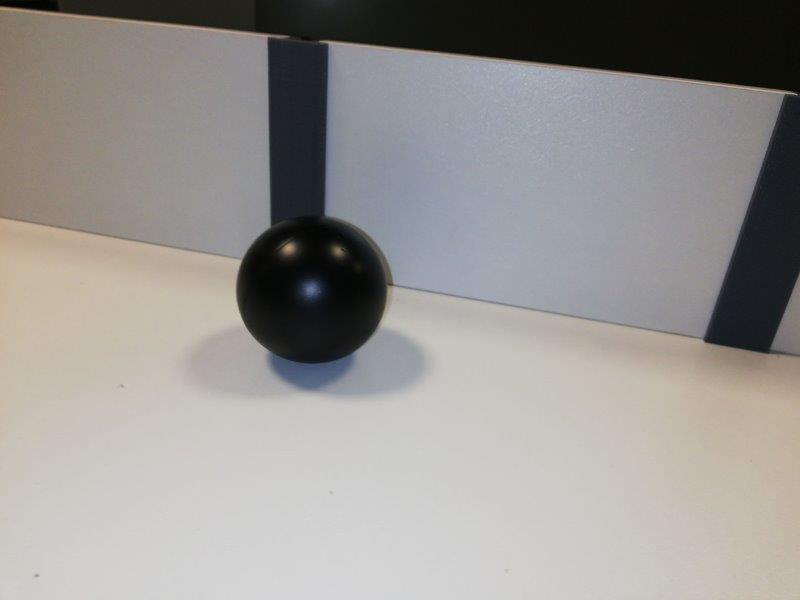nera: (237, 216, 390, 364)
